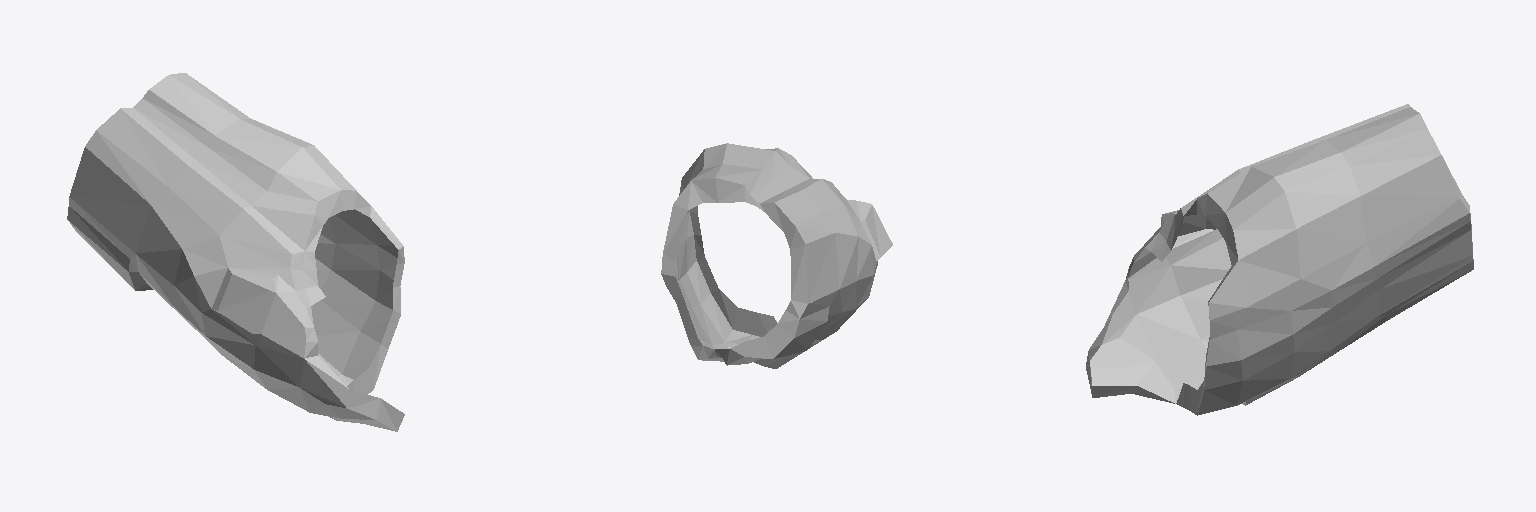
Rendered from X02LeftForearm.obj.
3 views of the same model, side by side, from view 1: azimuth 30°, elevation 25°; view 2: azimuth 150°, elevation 25°; view 3: azimuth 270°, elevation 25° (orthographic).
Visible parts, largest first — view 1: CPA; view 2: CPA; view 3: CPA.
Part boxes in pixels (x1,y1,x2,y2): CPA: (67,73,404,431); CPA: (661,143,892,368); CPA: (1086,104,1473,415).
Size of the model in its own units: 21.55 by 24.29 by 31.94.